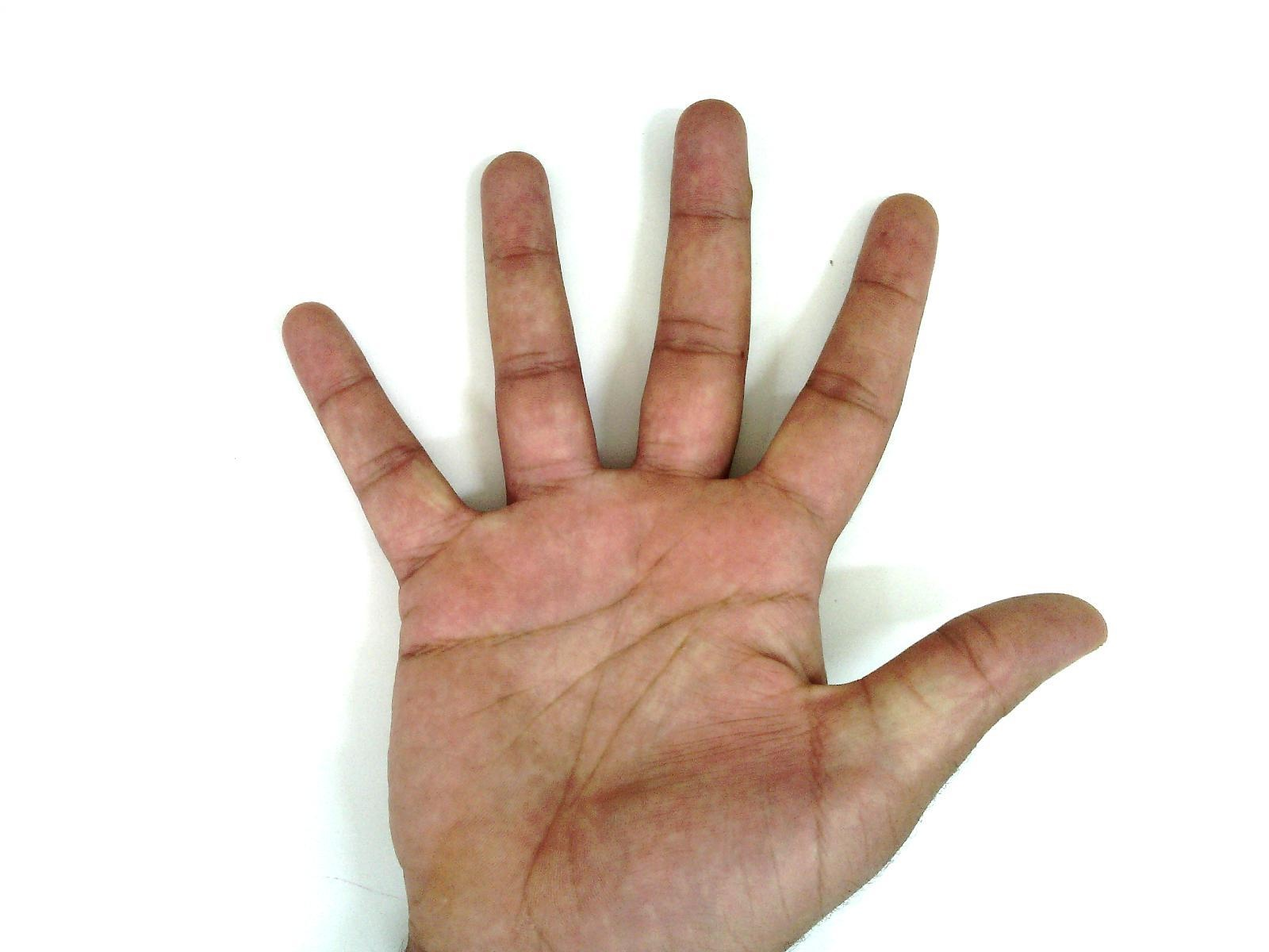open_palm: (278, 97, 1110, 951)
